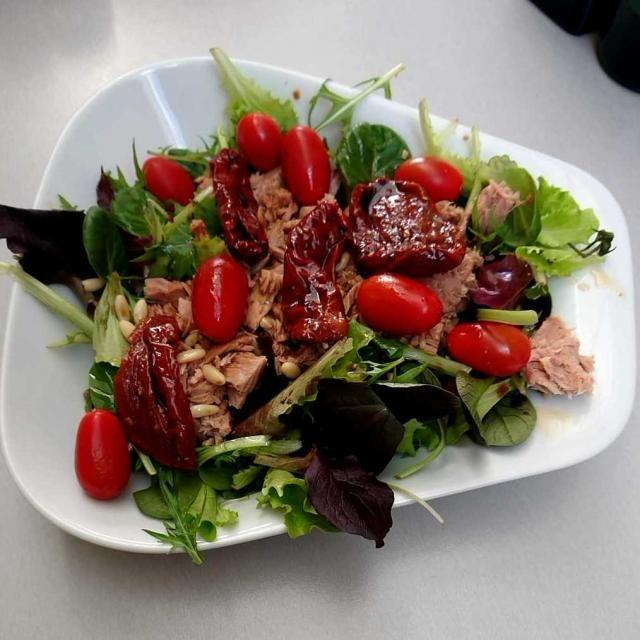salad: (15, 81, 596, 541)
tuna: (157, 173, 583, 470)
